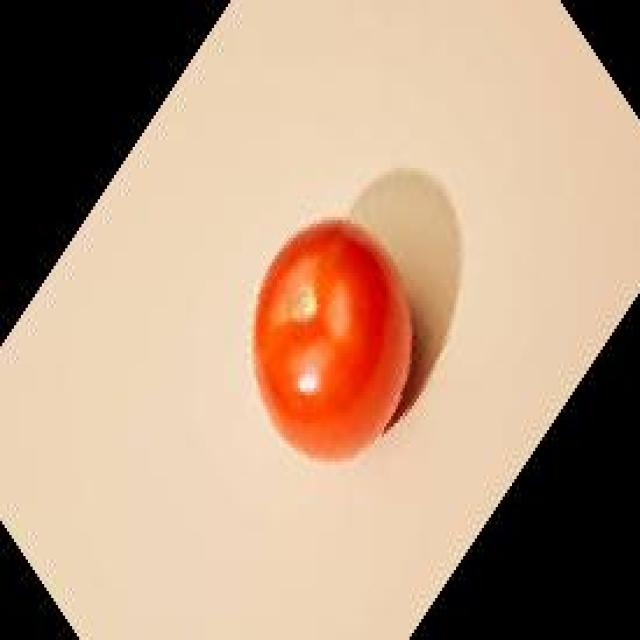Tomato: (252, 211, 420, 478)
